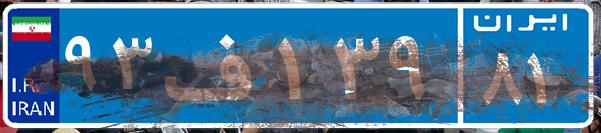1: (273, 28, 330, 110), (525, 38, 570, 115)
3: (330, 28, 385, 110), (110, 28, 158, 105)
8: (475, 38, 525, 113)
9: (385, 28, 445, 110), (57, 26, 110, 107)
ف: (158, 15, 273, 115)
